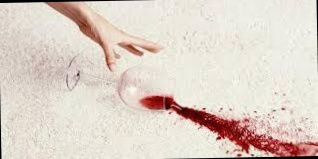wine: (152, 88, 318, 157)
